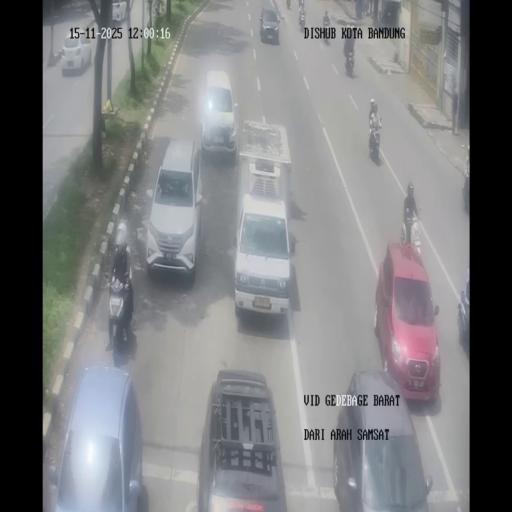car: (49, 364, 144, 510), (333, 371, 431, 510), (195, 368, 289, 510), (374, 241, 440, 401), (145, 137, 203, 280), (232, 180, 292, 318), (200, 68, 238, 160), (62, 31, 92, 75), (259, 6, 280, 44)
motorcycle: (106, 264, 135, 350), (402, 211, 422, 249), (368, 118, 382, 164), (462, 172, 470, 213), (344, 48, 355, 76), (322, 20, 331, 44), (298, 9, 306, 32), (362, 0, 369, 17), (378, 9, 383, 24), (286, 0, 290, 9)
